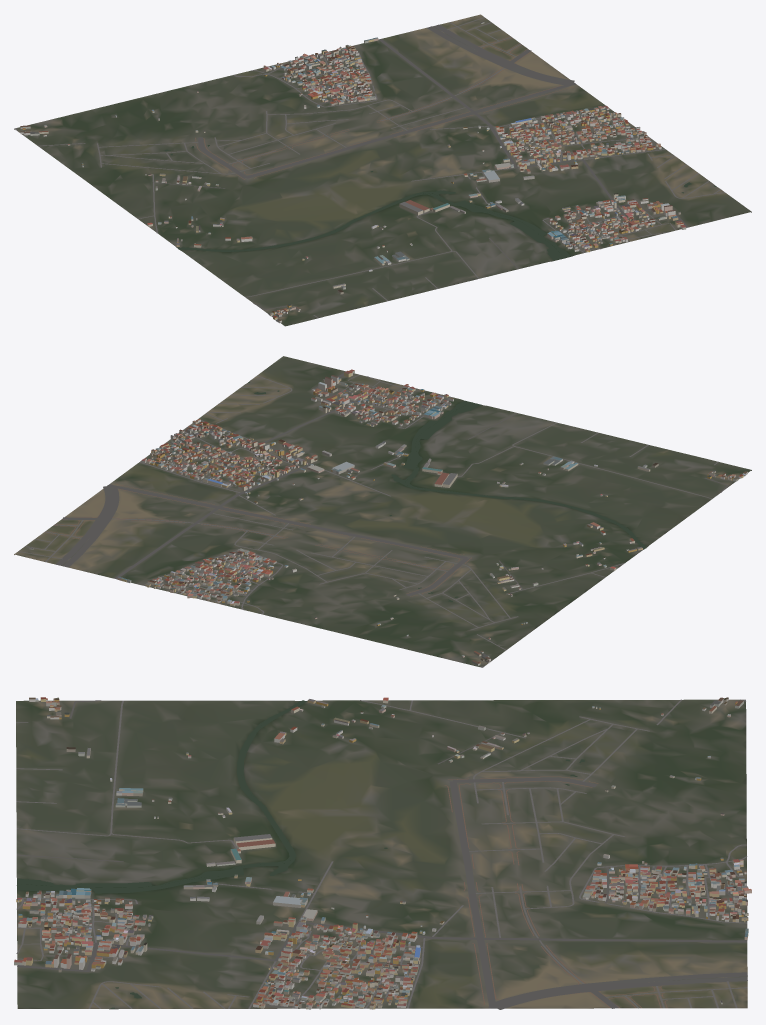
3 renders of one model, top to bottom at view 1: azimuth 30°, elevation 25°; view 2: azimuth 150°, elevation 25°; view 3: azimuth 270°, elevation 25°, orthographic. The views are drawn at different scales.
Visible parts, largest first — view 1: ground, buildings, roads, water; view 2: ground, buildings, roads, water; view 3: ground, buildings, roads, water.
Part boxes in pixels (x1,y1,x2,y2): ground: (14,14,751,326); buildings: (20,21,686,323); roads: (14,17,725,318); water: (164,145,716,260); ground: (14,356,751,667); buildings: (29,369,747,665); roads: (18,373,728,667); water: (248,381,646,601); ground: (16,699,747,1009); buildings: (14,697,751,1009); roads: (16,699,747,1009); water: (16,700,584,1008).
Size of the model in its own units: 1410 by 26.65 by 1417.
